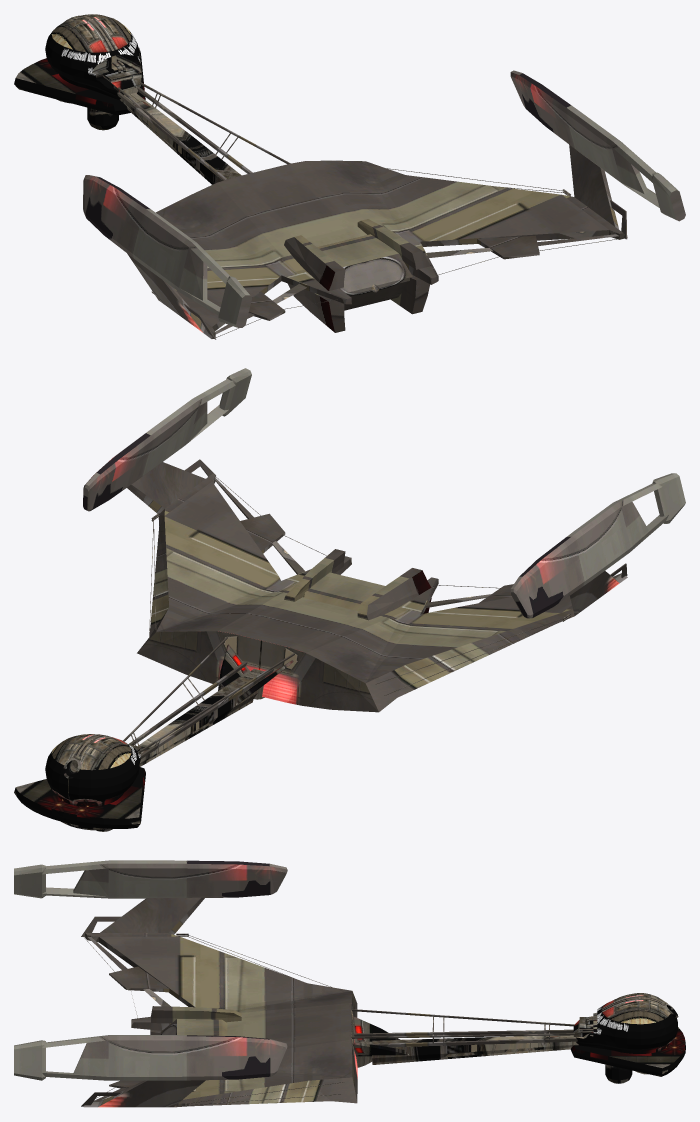
Rendered from Kling_D4Predator.fbx.
3 views of the same model, one above another, from view 1: azimuth 30°, elevation 25°; view 2: azimuth 150°, elevation 25°; view 3: azimuth 270°, elevation 25° (orthographic). The views are drawn at different scales.
Parts seen in each view (by area): view 1: Kling_D4Predator; view 2: Kling_D4Predator; view 3: Kling_D4Predator.
Part boxes in pixels (bbox=[...]): Kling_D4Predator: bbox=[14, 14, 685, 339]; Kling_D4Predator: bbox=[14, 368, 685, 831]; Kling_D4Predator: bbox=[14, 860, 685, 1107].
Size of the model in its own units: 187 by 62.38 by 285.
1 material, 1 textured.
